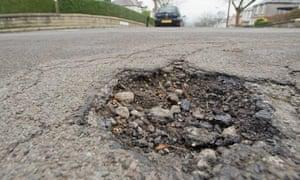Pothole: (93, 45, 284, 160)
